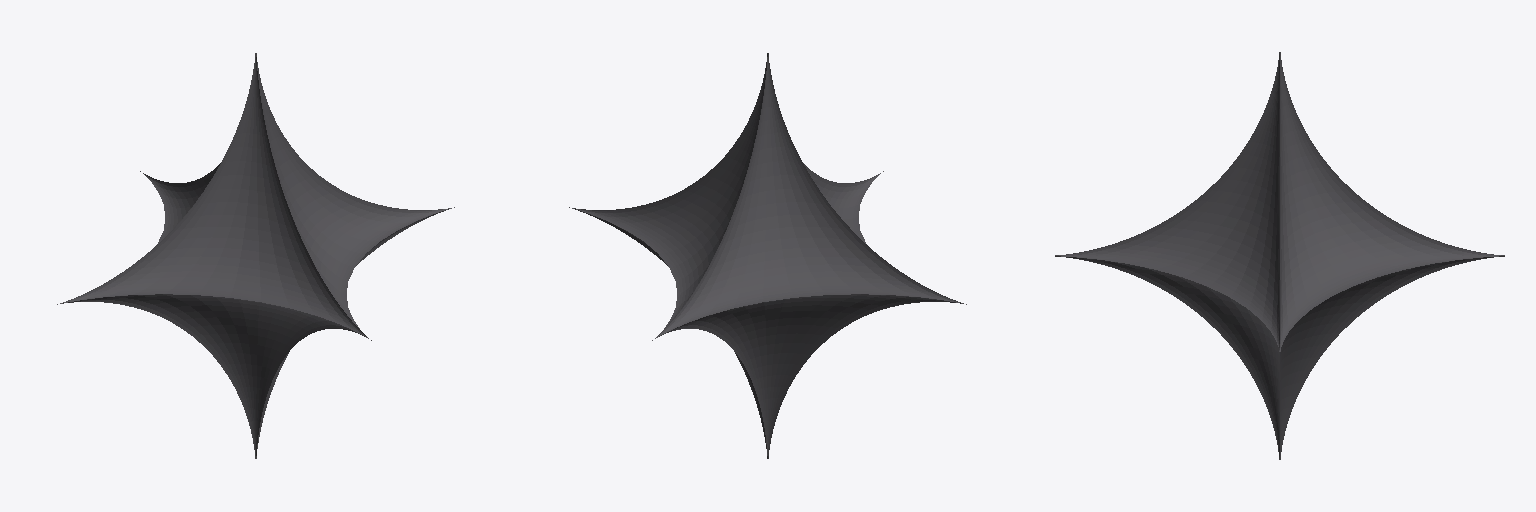
The model's file is Star1.obj.
3 renders of one model, left to right at view 1: azimuth 30°, elevation 25°; view 2: azimuth 150°, elevation 25°; view 3: azimuth 270°, elevation 25°, orthographic.
Parts seen in each view (by area): view 1: 3dstar1; view 2: 3dstar1; view 3: 3dstar1.
Boxes of the visible parts, x1,y1,x2,y2 form: 3dstar1: [57, 53, 454, 458]; 3dstar1: [569, 53, 966, 458]; 3dstar1: [1055, 52, 1504, 459].
Size of the model in its own units: 9.87 by 9.87 by 9.87.